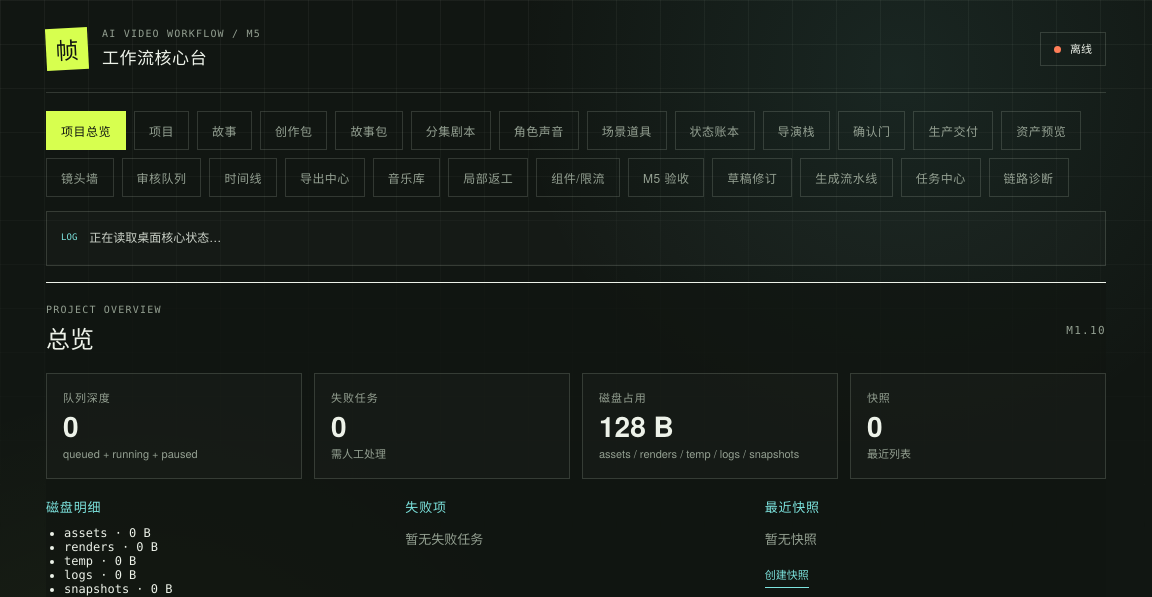
Test case: M1 shell › writes continuity ledger and creates an immutable snapshot
The width and height of the screenshot is (1152, 597).
Click the button "状态账本" at (715, 130), box [675, 111, 754, 150]
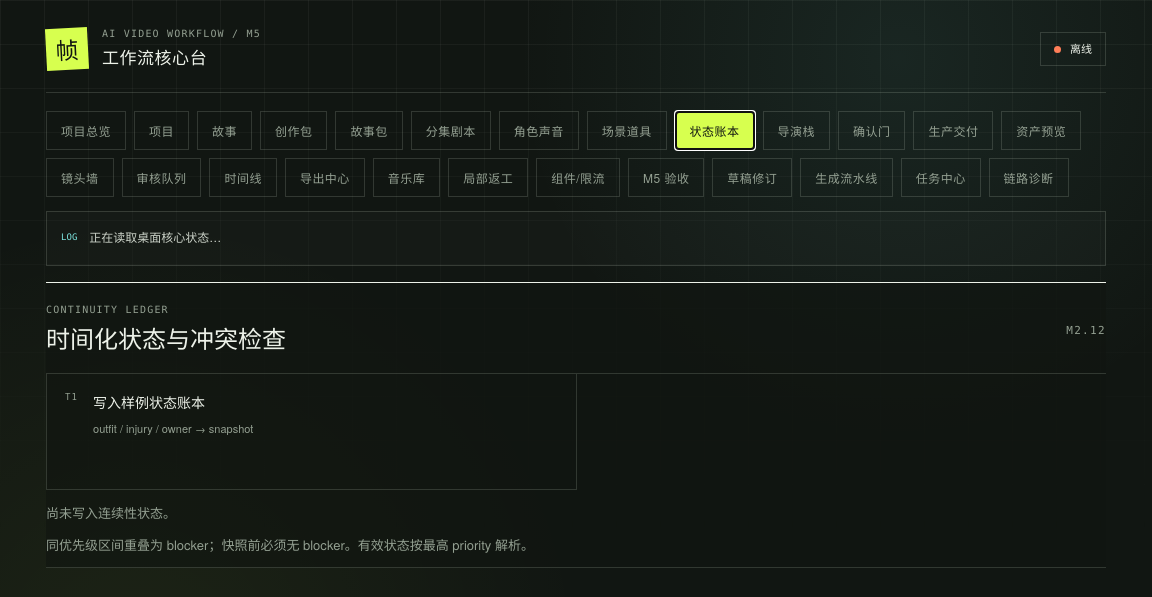
Click the button "写入样例状态账本" at (149, 402), box [47, 374, 576, 490]
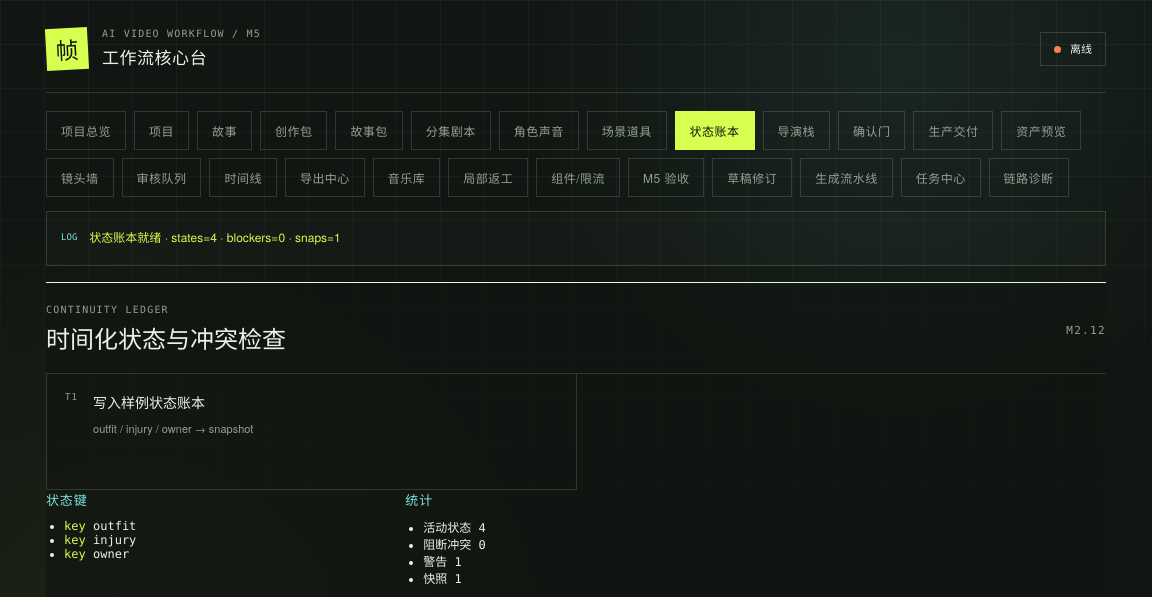
Result: the text "状态账本就绪 · states=4 · blockers=0 · snaps=1" is shown at [89, 229, 341, 248]
Result: the list named "状态键列表" shows "outfit" at [93, 519, 136, 533]
Result: the list named "账本统计" shows "活动状态 4" at [423, 521, 486, 586]
